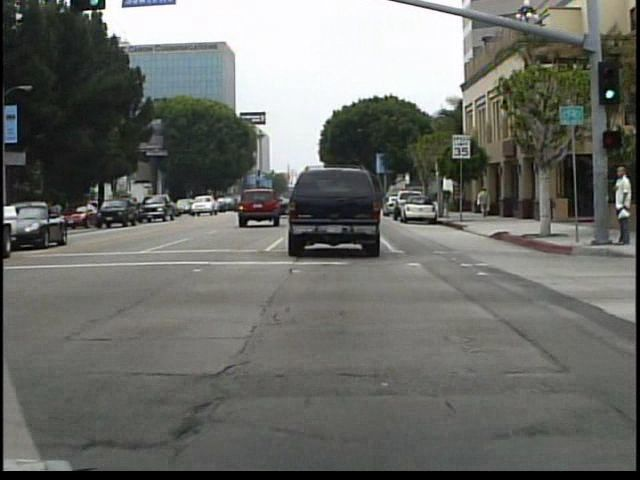person: (607, 161, 626, 249), (473, 180, 490, 221), (431, 185, 446, 219)
